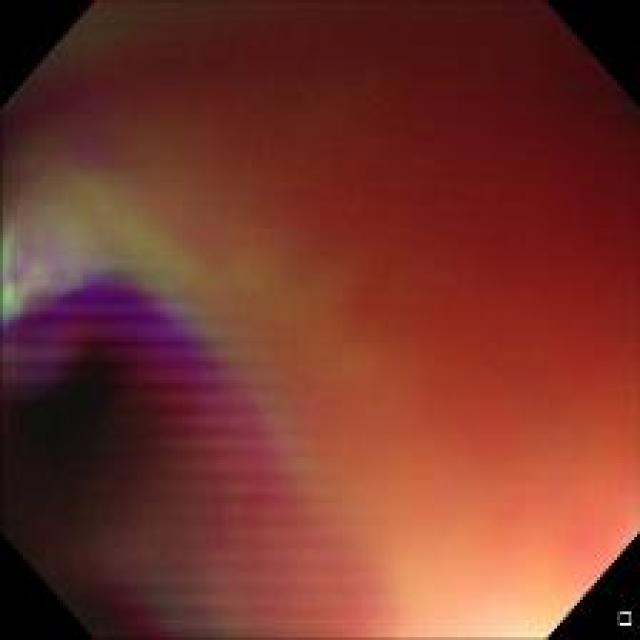color misalignment: (10, 2, 632, 624), (10, 165, 270, 569)
contrast: (8, 324, 154, 538)
